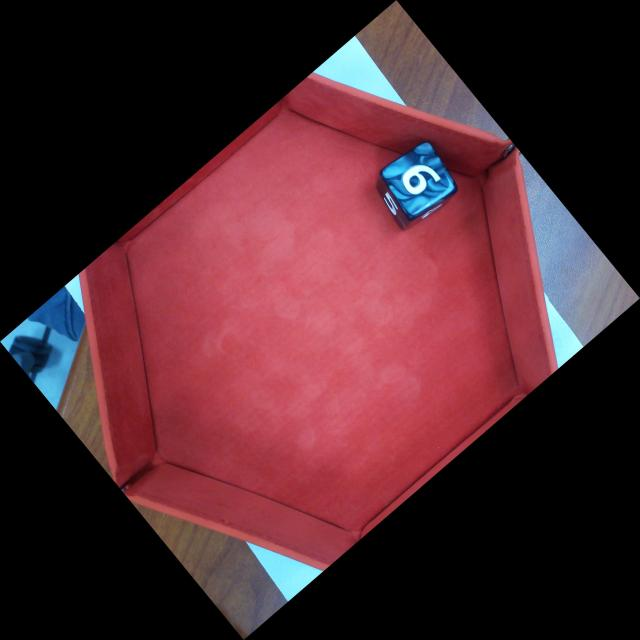dice: (383, 141, 458, 216)
